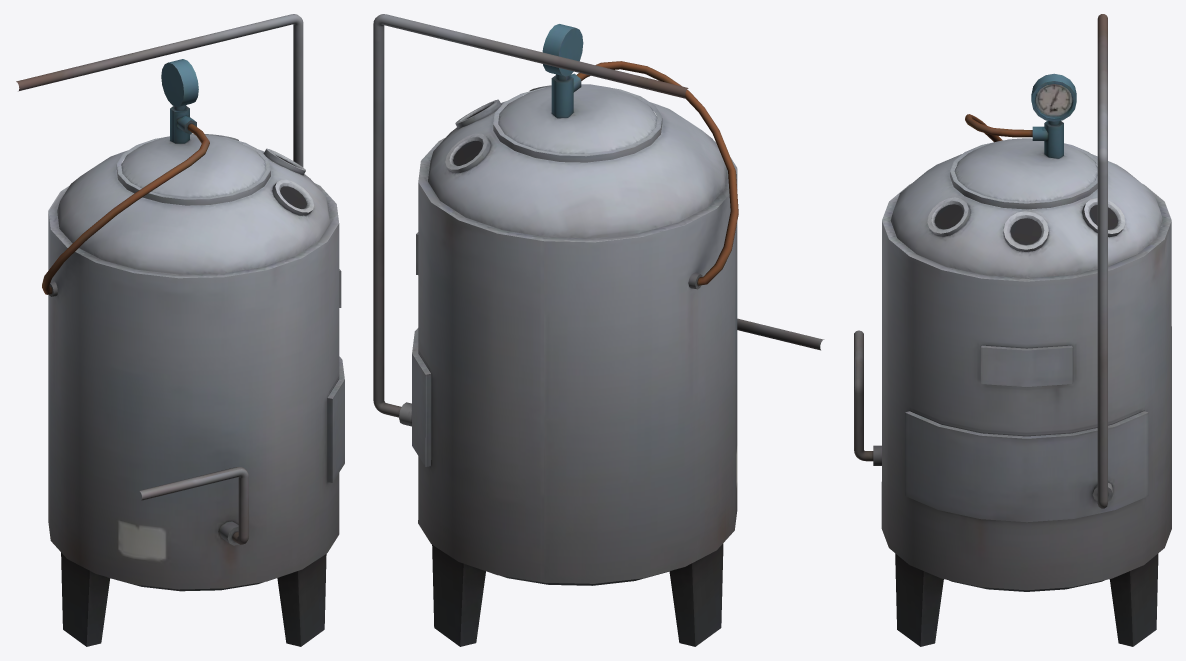
The picture shows the model from 3 angles, left to right: view 1: azimuth 30°, elevation 25°; view 2: azimuth 150°, elevation 25°; view 3: azimuth 270°, elevation 25°; orthographic projection. The views are drawn at different scales.
Visible parts, largest first — view 1: body0_model0_lod0_mesh0; view 2: body0_model0_lod0_mesh0; view 3: body0_model0_lod0_mesh0.
Boxes of the visible parts, <box> form: body0_model0_lod0_mesh0: <box>16,14,344,646</box>; body0_model0_lod0_mesh0: <box>373,14,824,646</box>; body0_model0_lod0_mesh0: <box>854,14,1171,646</box>.
Size of the model in its own units: 97.88 by 172 by 93.03.
Materials: 1 (1 with a texture image).
